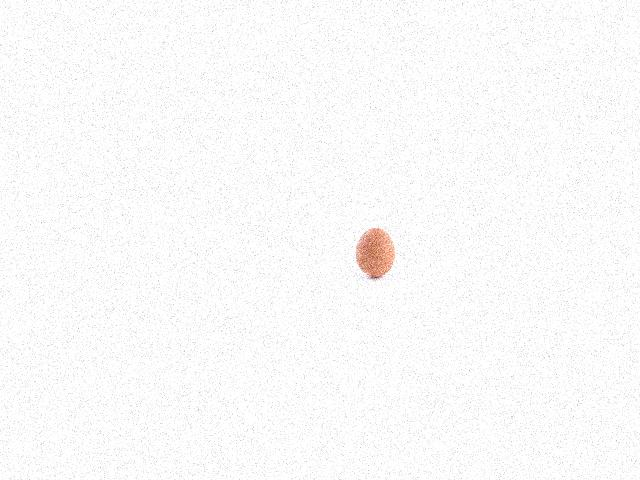egg: (354, 227, 394, 277)
